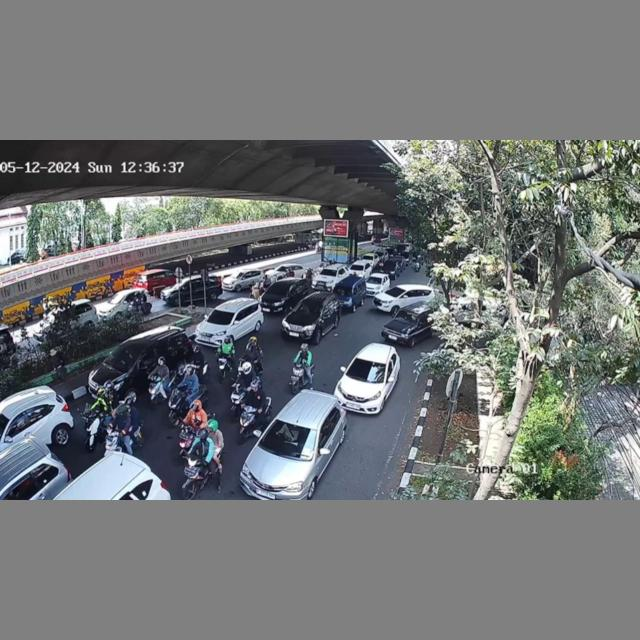windshield: (261, 418, 318, 462), (346, 356, 387, 381), (290, 299, 326, 317), (200, 310, 236, 326)
